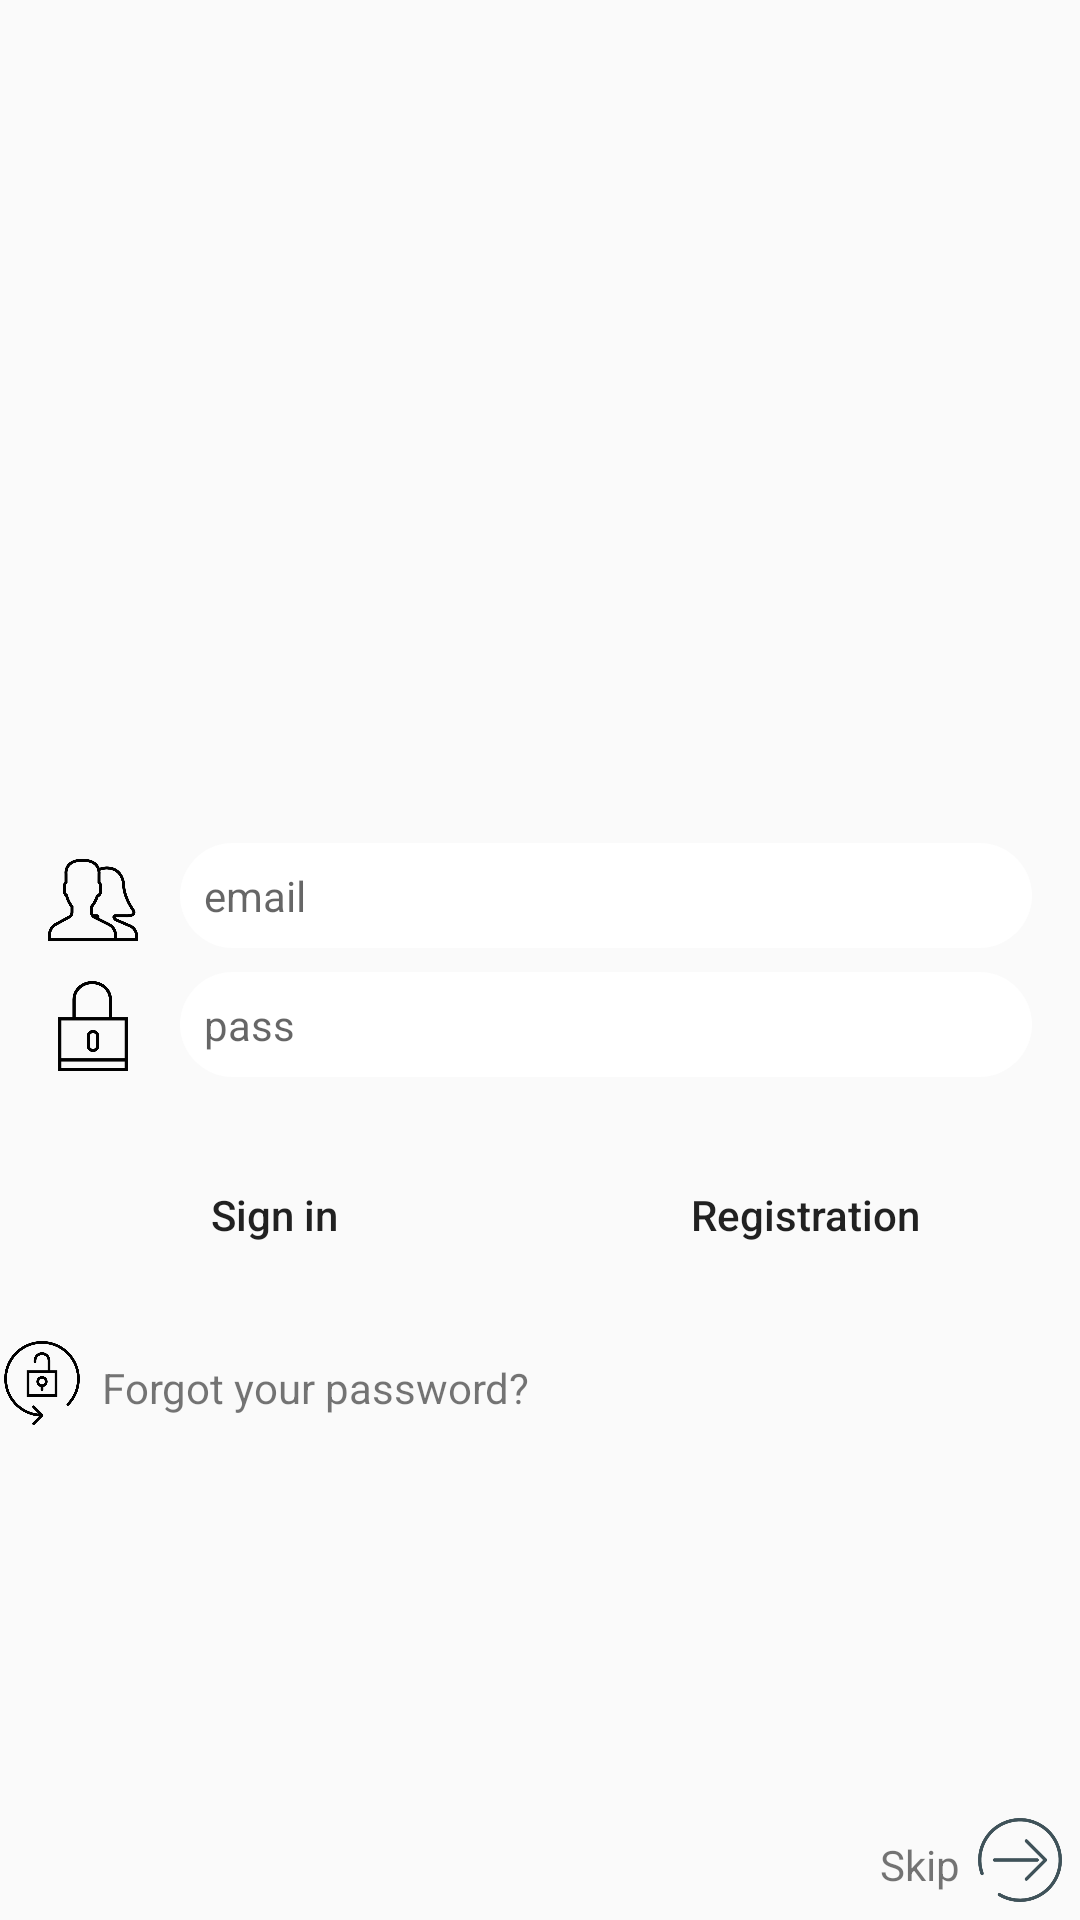

Where to tap for icons on this 1080*1920 app screen, as (x=x, y=y):
annon login: (x=1020, y=1860)
locked: (x=93, y=1026)
users: (x=93, y=900)
